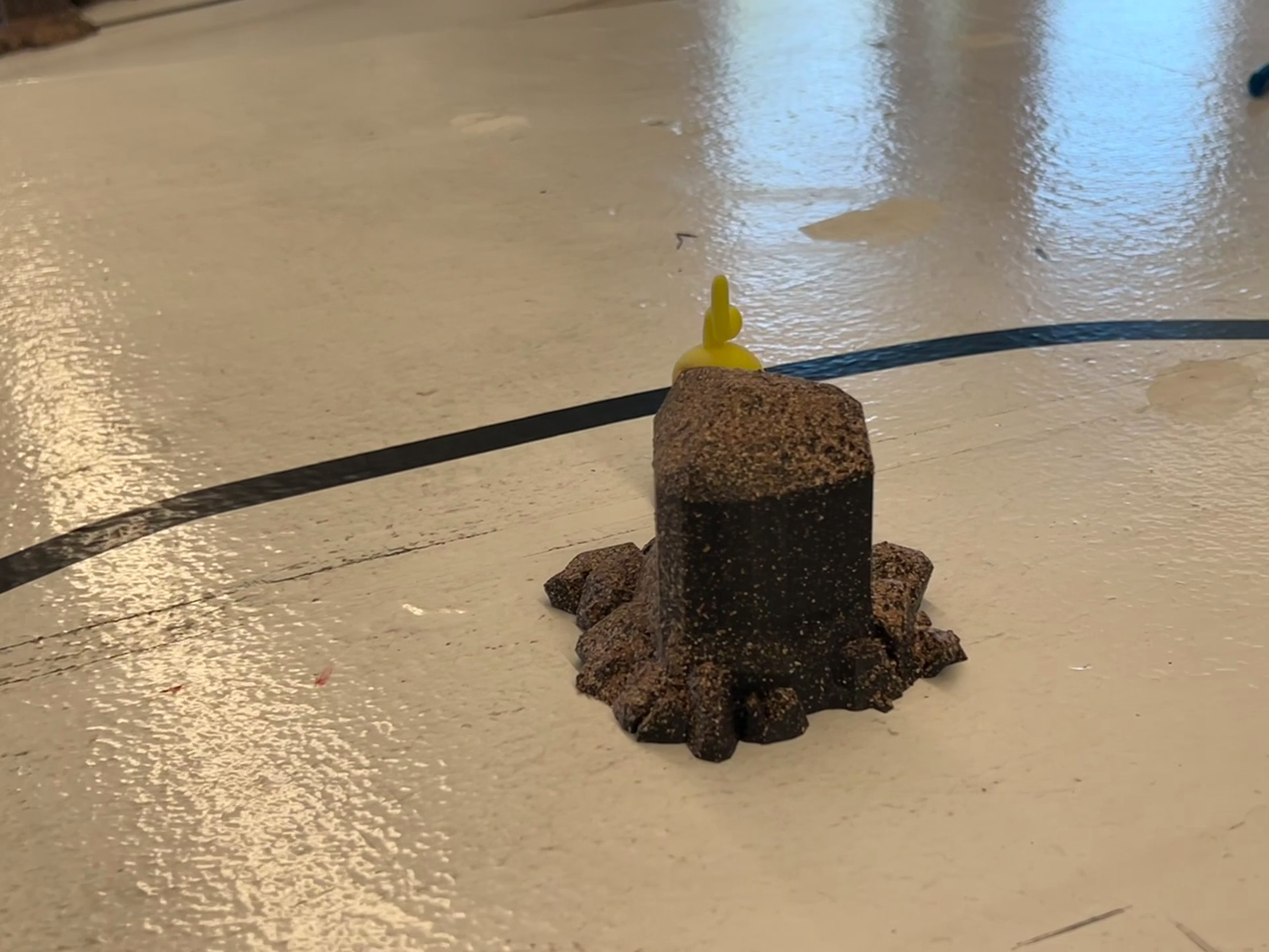teletubby: (673, 276, 761, 379)
